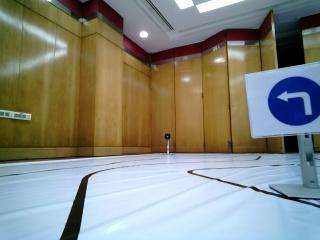left: (248, 74, 320, 126)
